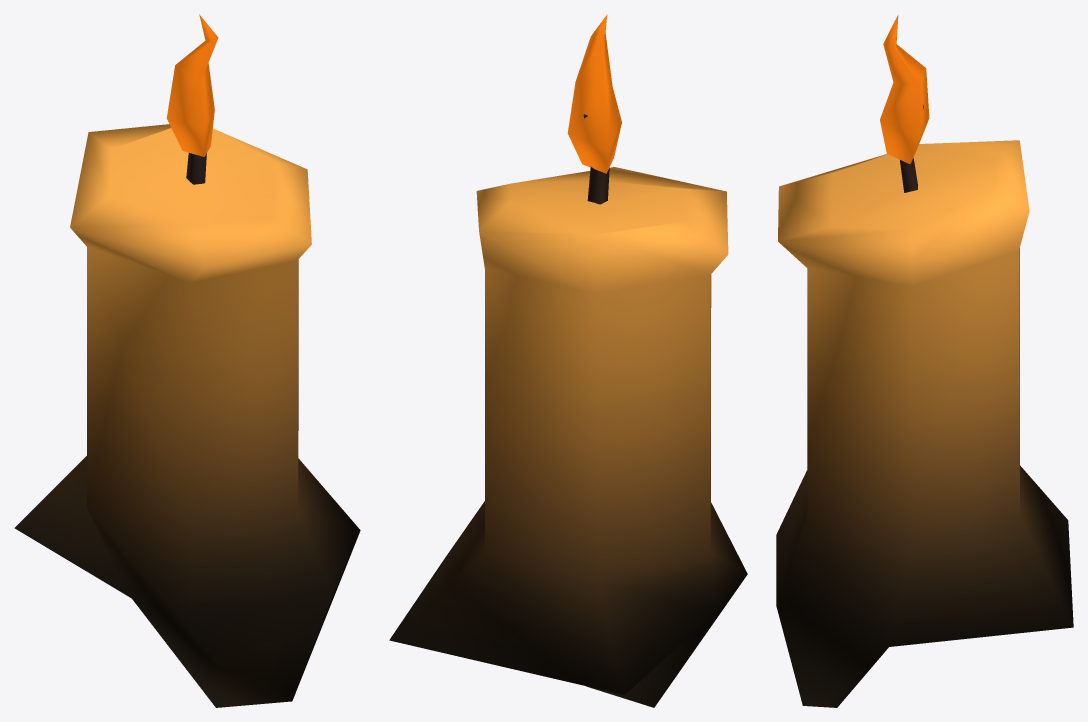
Rendered from CandleShapeD.053.glb.
The picture shows the model from 3 angles, left to right: view 1: azimuth 30°, elevation 25°; view 2: azimuth 150°, elevation 25°; view 3: azimuth 270°, elevation 25°; orthographic projection. The views are drawn at different scales.
Visible parts, largest first — view 1: CandleShapeD.053; view 2: CandleShapeD.053; view 3: CandleShapeD.053.
Part boxes in pixels (x1,y1,x2,y2): CandleShapeD.053: [14, 14, 360, 707]; CandleShapeD.053: [389, 14, 747, 707]; CandleShapeD.053: [776, 15, 1073, 707].
Bounding box in the file's own units: 0.1424 × 0.327 × 0.1308.
2 materials, 2 textured.
